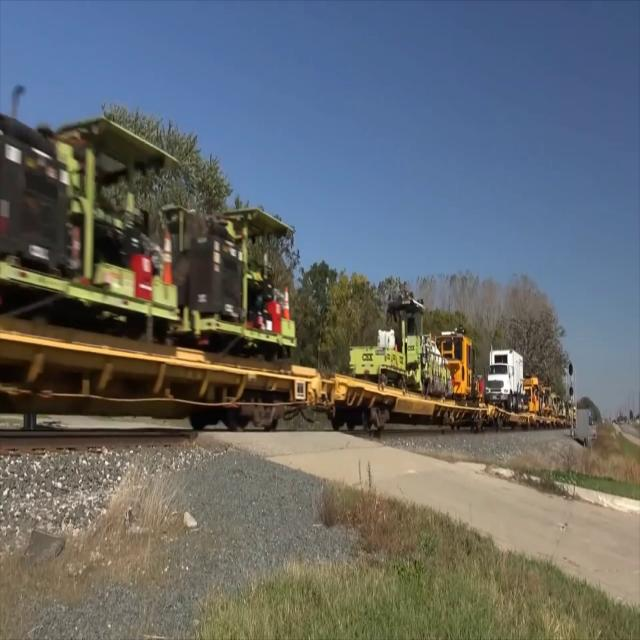cargo: (0, 80, 182, 350), (181, 198, 299, 357), (344, 285, 424, 393)
flatcar: (0, 302, 330, 450), (324, 366, 494, 440)
